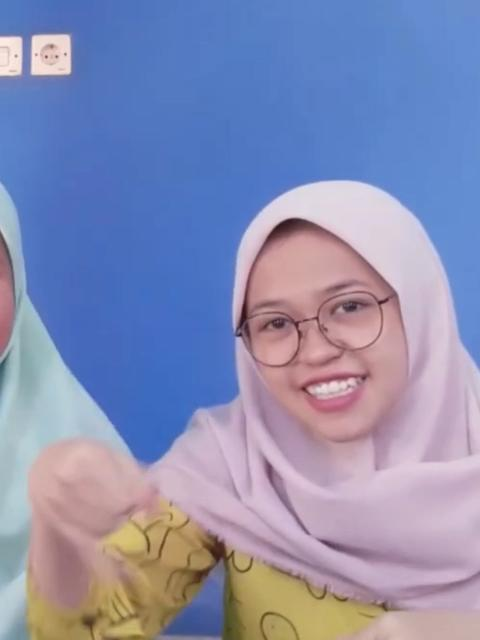J: (25, 418, 157, 598)
